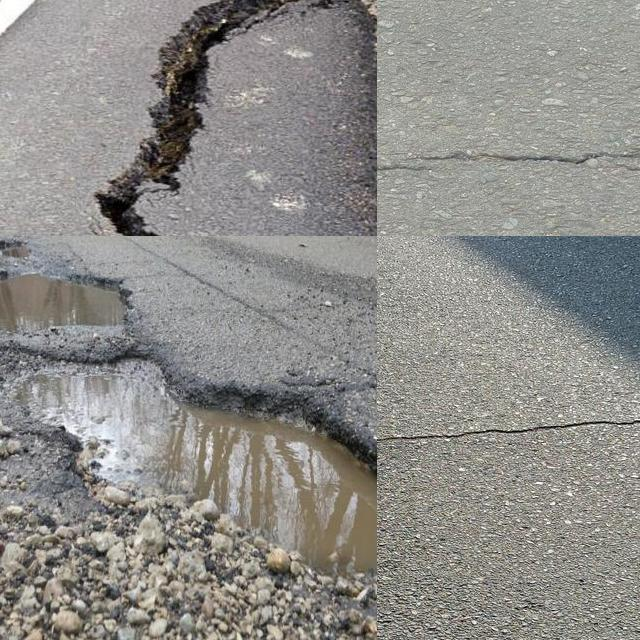Lubang: (0, 348, 377, 588), (0, 264, 134, 335)
Melintang: (377, 404, 640, 467), (377, 141, 640, 186)
Pinggir: (73, 0, 377, 236)
